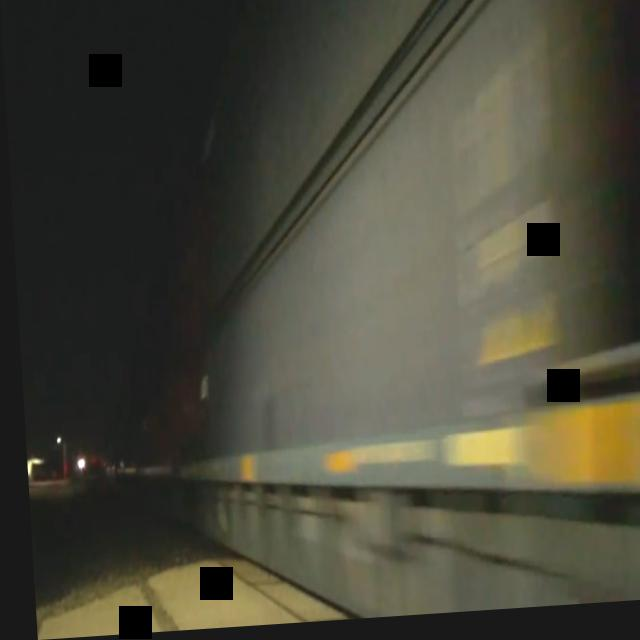container: (169, 0, 640, 474)
flatcar: (161, 370, 640, 632)
